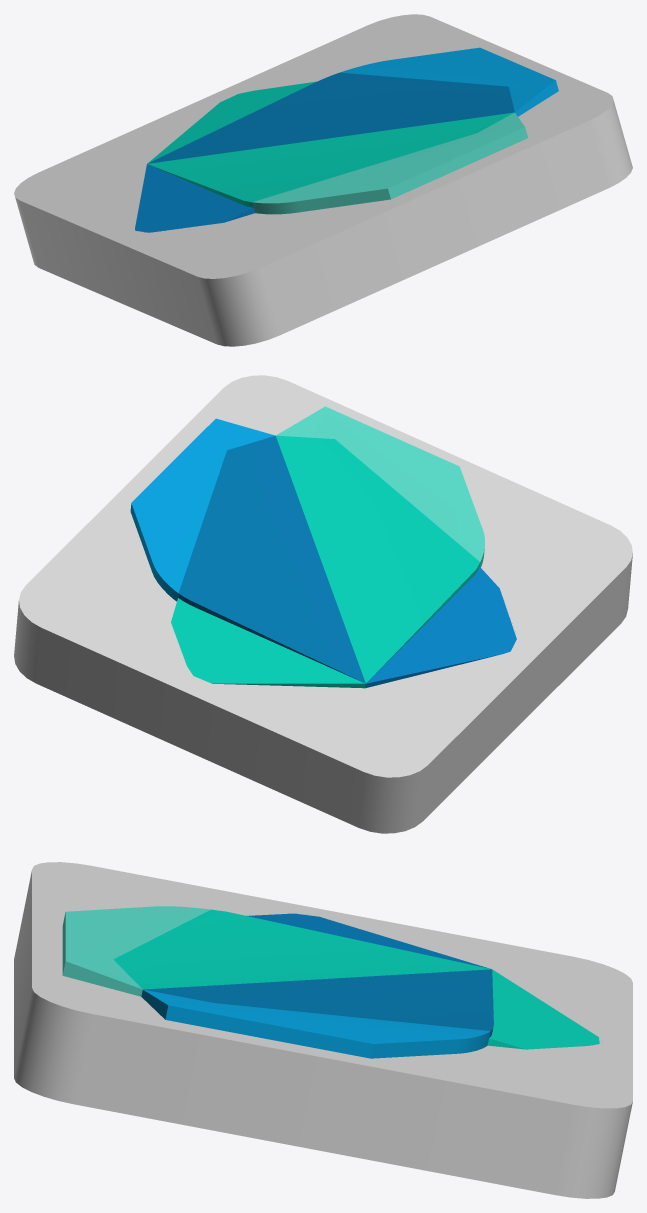
File: dart.glb
3 renders of one model, top to bottom at view 1: azimuth 30°, elevation 25°; view 2: azimuth 150°, elevation 25°; view 3: azimuth 270°, elevation 25°, orthographic. The views are drawn at different scales.
Parts seen in each view (by area): view 1: dart; view 2: dart; view 3: dart.
Boxes of the visible parts, x1,y1,x2,y2 form: dart: [14, 14, 632, 346]; dart: [14, 375, 632, 833]; dart: [14, 862, 632, 1198].
Bounding box in the file's own units: 2.08 × 1.01 × 2.02.
